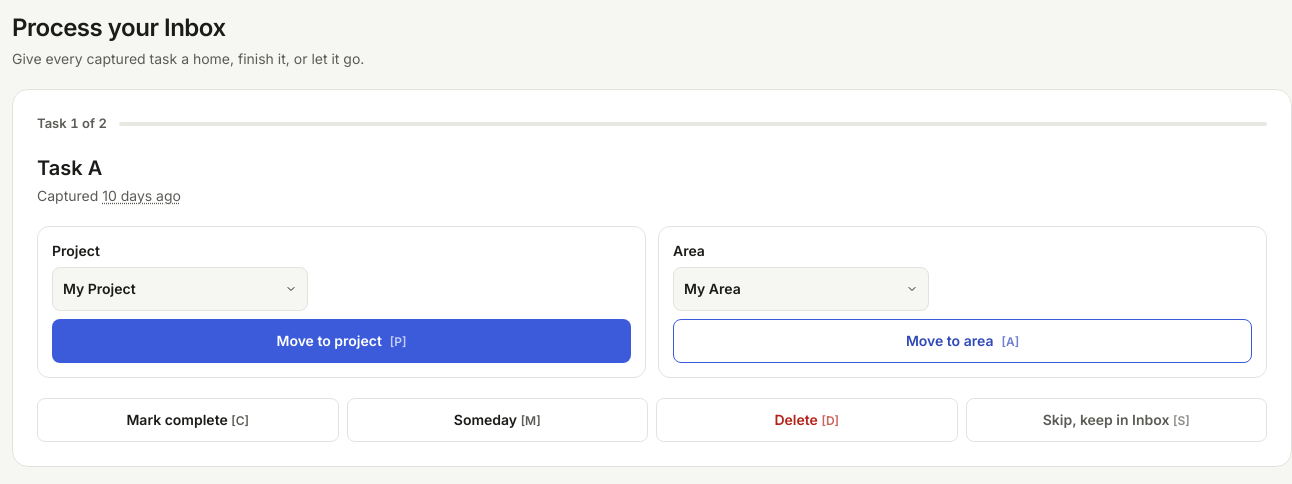
InboxStep — Skip bug fix (single source of truth) › Skip all tasks cycles back to Task A
This screenshot has width=1292, height=484.
# Skip Task A → shows Task B
Click the button "Skip, keep in Inbox [S]" at (1116,420), box [966,398,1267,442]
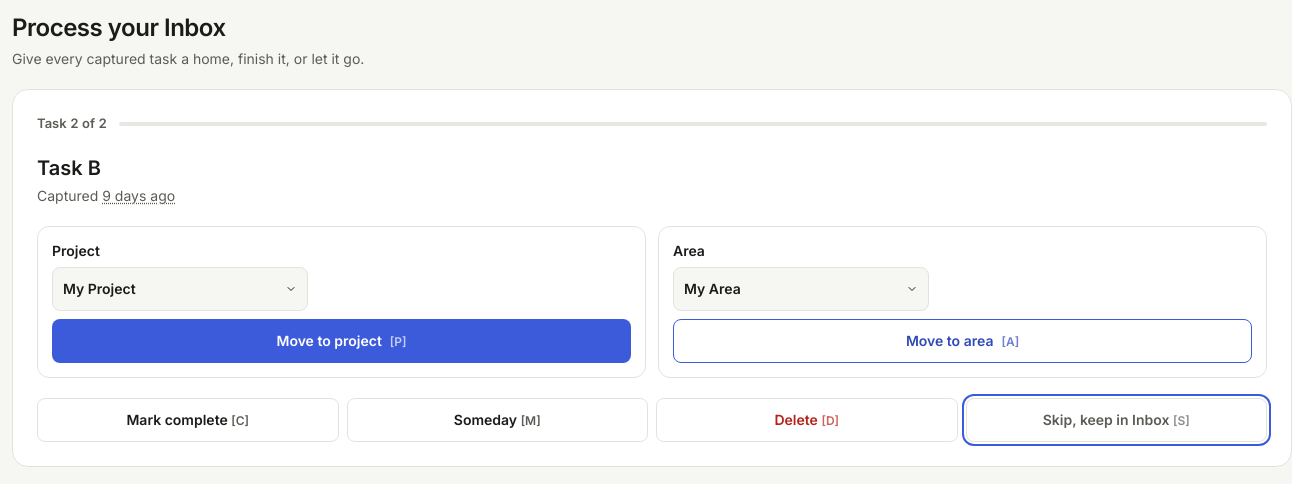
Check: the heading "Task B" is shown, box [37,156,101,180]
# Skip Task B → back to Task A
Click the button "Skip, keep in Inbox [S]" at (1116,420), box [966,398,1267,442]
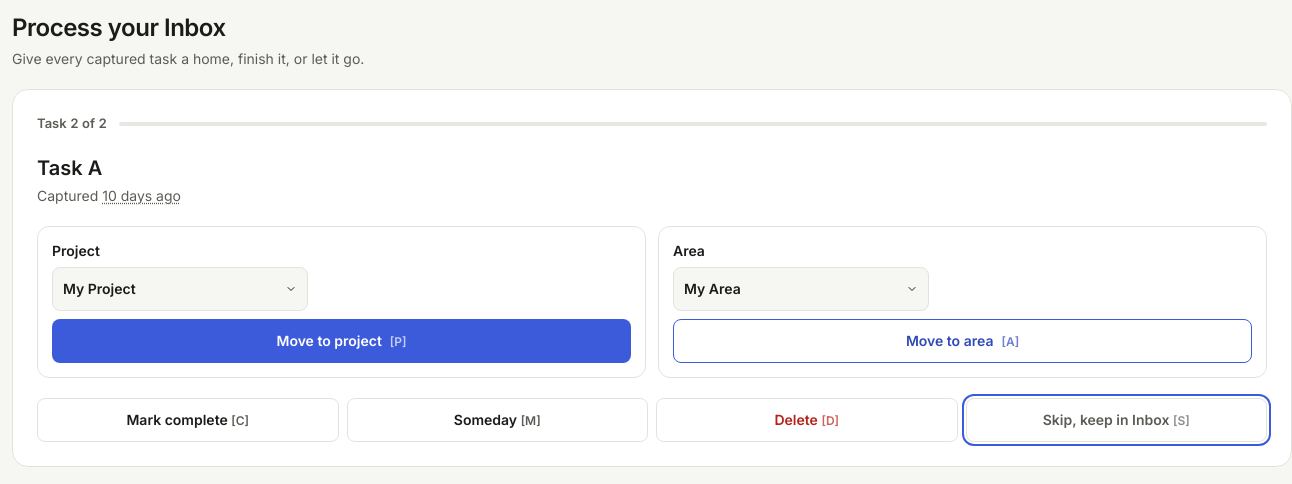
Check: the heading "Task A" is shown, box [37,156,102,180]
